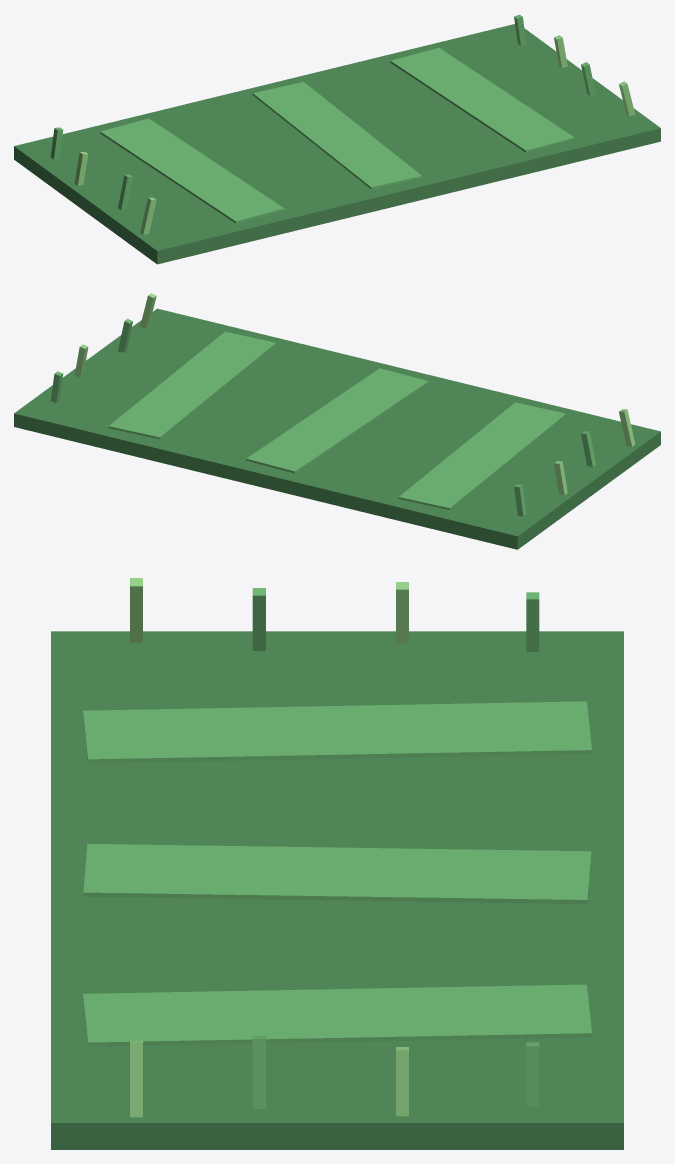
File: track_grass_3lane.glb
3 renders of one model, top to bottom at view 1: azimuth 30°, elevation 25°; view 2: azimuth 150°, elevation 25°; view 3: azimuth 270°, elevation 25°, orthographic. The views are drawn at different scales.
Parts seen in each view (by area): view 1: track_grass_3lane; view 2: track_grass_3lane; view 3: track_grass_3lane.
Part boxes in pixels (box(x1,y1,x2,y2)): track_grass_3lane: box(14, 14, 660, 264); track_grass_3lane: box(14, 293, 660, 549); track_grass_3lane: box(51, 578, 623, 1149).
Size of the model in its own units: 6.25 by 0.5544 by 3.08.
